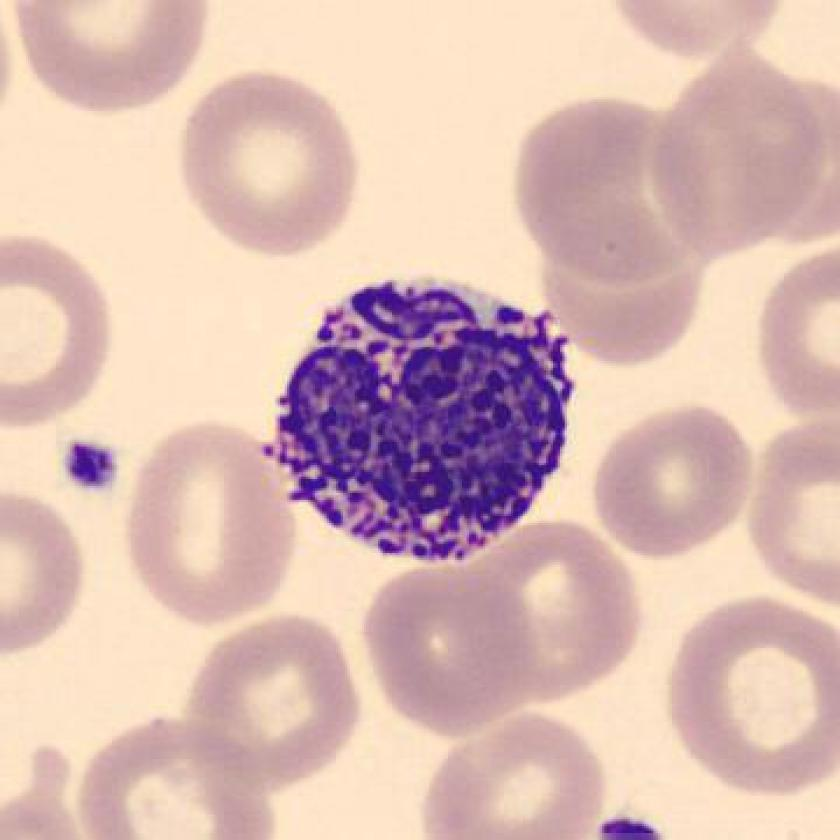basophil: (265, 270, 573, 573)
